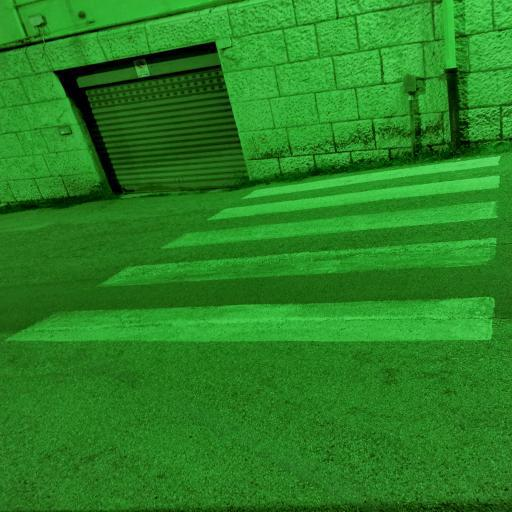crosswalk: (2, 233, 512, 355), (204, 152, 510, 223)
